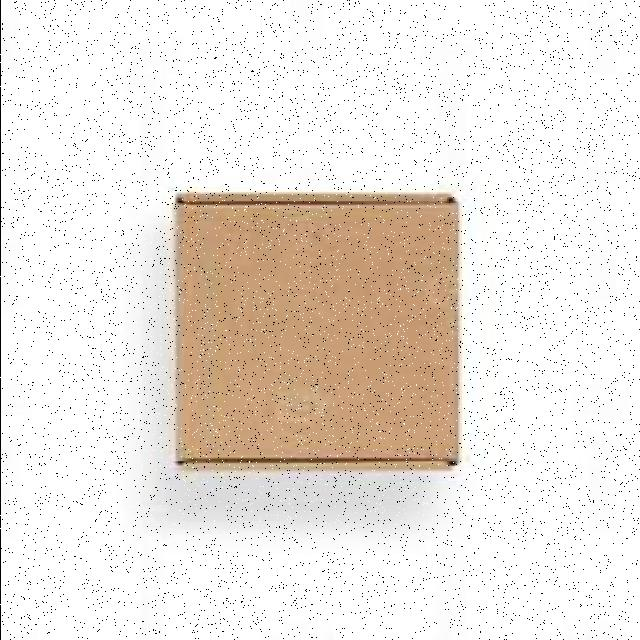normal: (168, 183, 464, 485)
